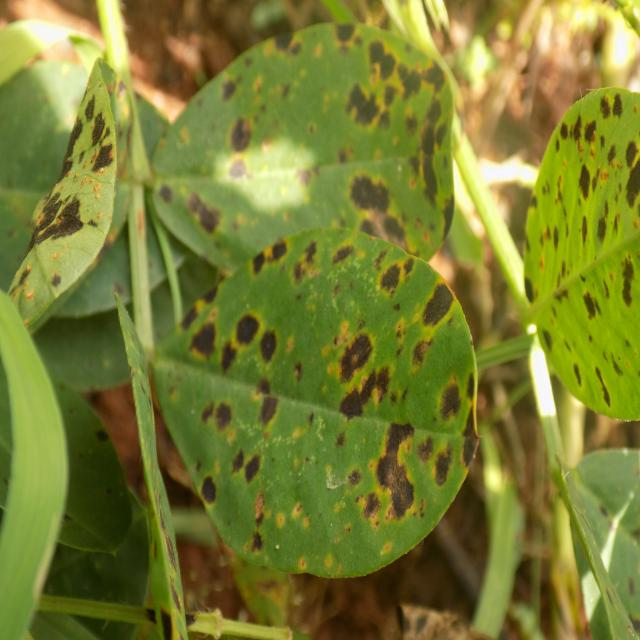Ground nut_tikka leaf spot: (154, 221, 479, 584), (147, 15, 455, 279)
